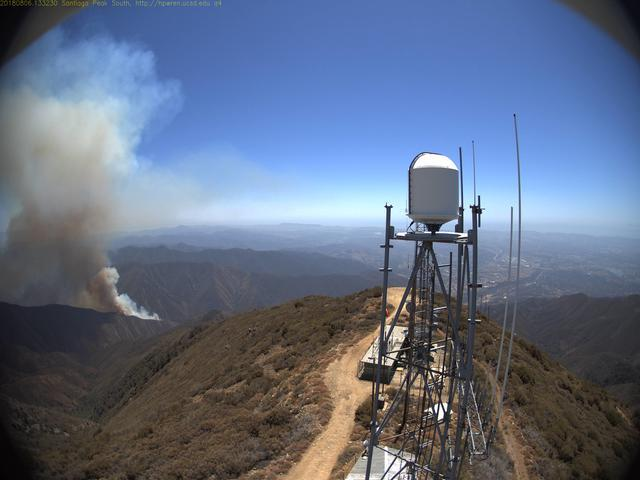smoke: (2, 28, 176, 324)
